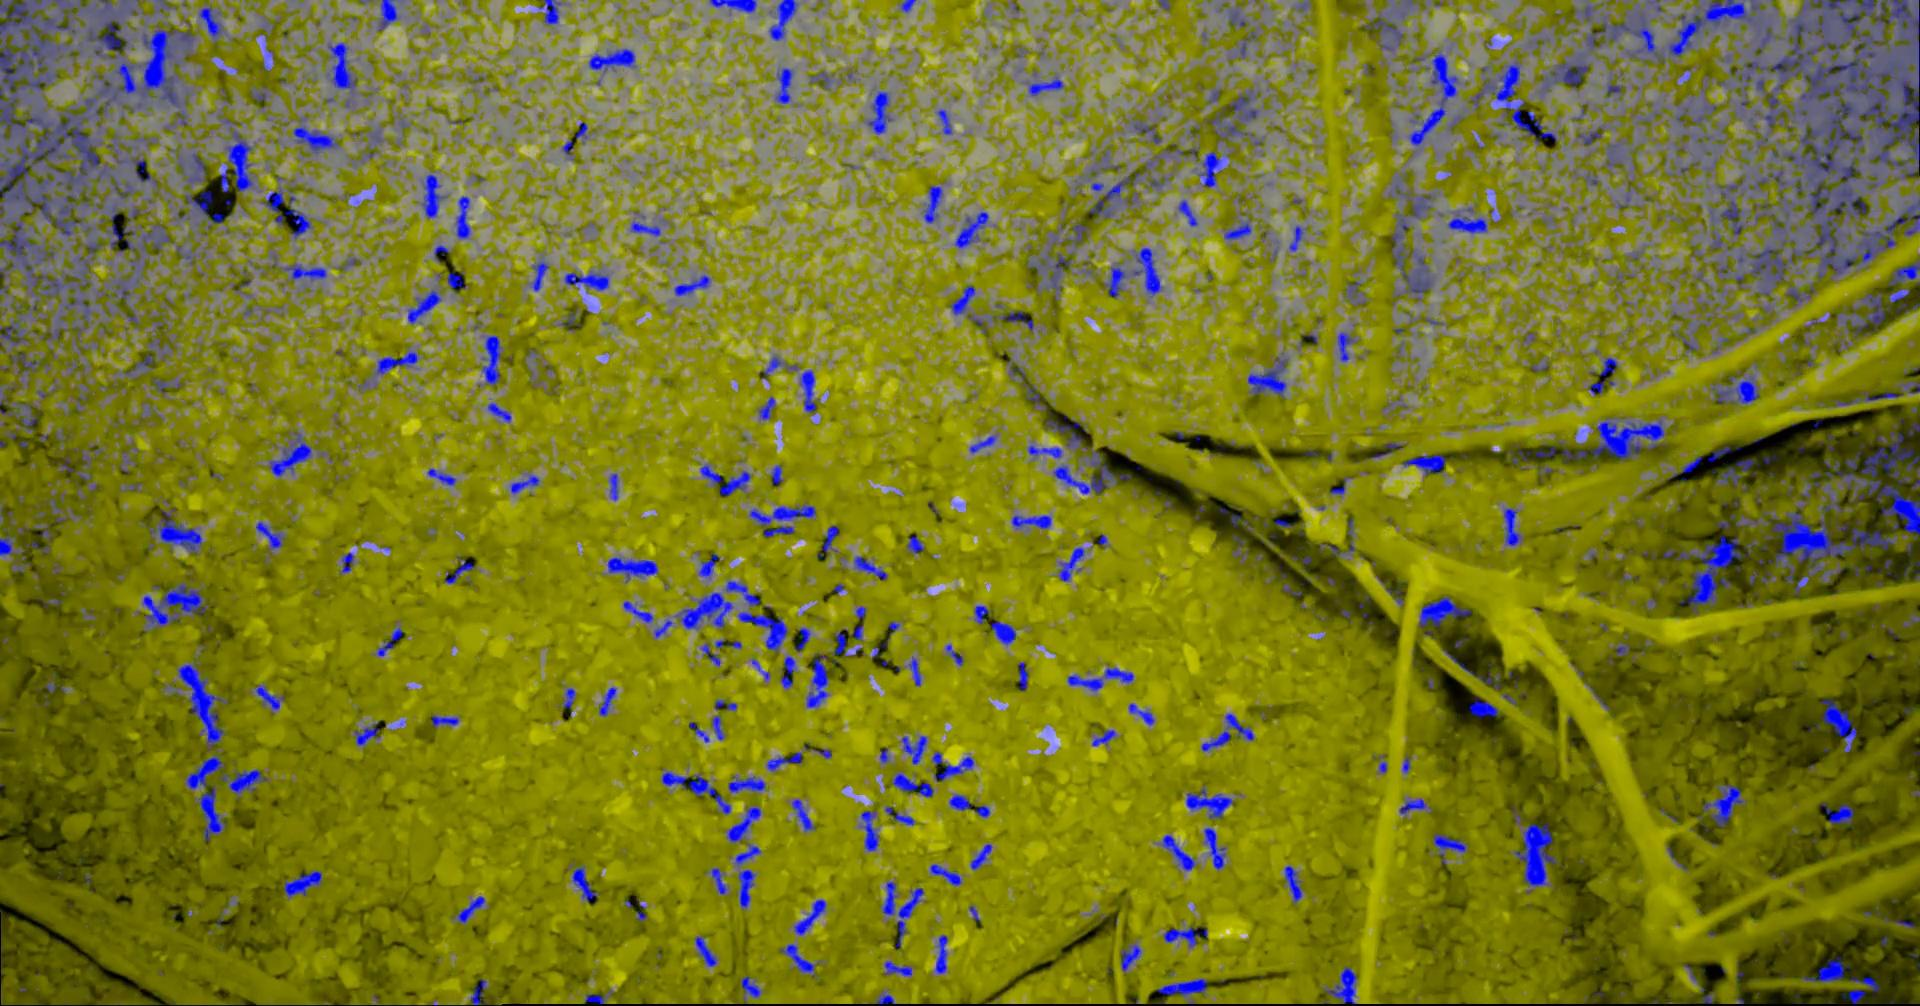ant: (1051, 445, 1130, 493), (1390, 212, 1432, 300), (1090, 163, 1150, 218), (662, 771, 730, 814), (881, 882, 923, 948), (1205, 89, 1258, 138), (262, 185, 311, 239), (147, 507, 201, 554), (1835, 292, 1890, 338), (220, 119, 253, 192), (1443, 649, 1501, 690), (748, 504, 815, 537), (1200, 713, 1255, 751), (737, 611, 787, 652), (674, 592, 731, 627), (1007, 359, 1046, 410), (268, 431, 311, 476), (1702, 782, 1746, 826), (1821, 699, 1857, 752), (1247, 352, 1288, 398), (0, 385, 41, 431), (1542, 55, 1589, 91), (184, 191, 231, 227), (1418, 594, 1470, 627), (112, 149, 157, 185), (1185, 784, 1233, 818), (698, 464, 750, 495), (292, 118, 339, 152), (1710, 370, 1759, 403), (1067, 667, 1134, 690), (1749, 168, 1785, 208), (1131, 246, 1161, 296), (218, 768, 268, 798), (778, 942, 819, 978), (105, 205, 135, 251), (328, 42, 356, 90), (0, 527, 29, 572), (931, 751, 973, 781), (1159, 835, 1195, 870), (954, 211, 988, 248), (1044, 413, 1081, 447), (607, 556, 657, 582), (1801, 956, 1850, 982), (1324, 967, 1357, 1005), (726, 805, 759, 842), (93, 166, 131, 198), (806, 652, 828, 708), (0, 305, 25, 352), (1709, 199, 1743, 234), (792, 899, 825, 935), (1360, 17, 1402, 44), (768, 0, 797, 39), (570, 862, 599, 902), (588, 48, 635, 72), (422, 173, 447, 217), (1829, 391, 1902, 406), (408, 290, 439, 324), (283, 870, 321, 898), (1163, 925, 1208, 948), (1049, 253, 1070, 300), (867, 91, 891, 133), (375, 351, 417, 375), (1754, 201, 1785, 232), (137, 222, 171, 251), (1432, 833, 1467, 862), (97, 276, 130, 305), (1401, 453, 1445, 475), (891, 774, 933, 796), (1203, 827, 1225, 869), (9, 351, 48, 375), (481, 335, 500, 385), (1156, 978, 1208, 996), (451, 895, 484, 923), (1058, 546, 1084, 580), (1888, 288, 1919, 318), (761, 354, 797, 379), (563, 271, 608, 290), (853, 555, 888, 580), (725, 580, 759, 606), (198, 8, 222, 43), (1197, 151, 1222, 187), (990, 310, 1032, 330), (443, 555, 474, 583), (858, 809, 879, 851), (1669, 456, 1702, 481), (255, 521, 284, 549), (1888, 259, 1919, 286), (830, 627, 855, 661), (930, 862, 963, 887), (1820, 801, 1854, 824), (375, 627, 403, 655), (949, 285, 974, 315), (254, 683, 284, 709), (791, 799, 815, 831), (1448, 213, 1487, 232), (900, 735, 927, 763), (1105, 262, 1126, 296), (923, 185, 942, 224), (674, 274, 710, 295), (63, 295, 90, 321), (766, 751, 803, 770), (738, 869, 756, 908), (622, 600, 653, 622), (695, 936, 717, 967), (284, 263, 326, 279), (799, 370, 815, 412), (1717, 174, 1743, 199), (1284, 865, 1302, 903), (1133, 119, 1161, 144), (1785, 283, 1815, 306), (123, 353, 154, 375), (1849, 976, 1879, 997), (1503, 508, 1521, 545), (728, 775, 764, 793), (1029, 76, 1063, 95), (884, 805, 916, 826), (455, 196, 470, 238), (775, 67, 792, 103), (377, 0, 397, 30), (354, 721, 380, 746), (1735, 509, 1769, 527), (1128, 702, 1154, 725), (990, 620, 1015, 644), (1468, 697, 1498, 716), (1011, 514, 1051, 528), (1120, 942, 1140, 970), (1411, 194, 1434, 218), (735, 843, 759, 866), (970, 843, 992, 869), (778, 655, 795, 688), (187, 152, 204, 183), (1177, 199, 1197, 226), (531, 260, 549, 291), (1399, 798, 1430, 815), (709, 0, 756, 11), (510, 474, 538, 493), (1369, 442, 1401, 459), (1065, 224, 1088, 246), (538, 0, 560, 24), (1337, 332, 1355, 361), (425, 467, 455, 485), (1691, 104, 1717, 124), (1716, 466, 1741, 486), (598, 686, 615, 716), (935, 934, 947, 973), (1223, 221, 1251, 239), (1229, 513, 1253, 533), (740, 976, 759, 1001), (37, 523, 53, 553), (969, 434, 996, 452), (709, 868, 726, 894), (630, 221, 660, 236), (446, 271, 466, 293), (151, 377, 182, 392), (488, 401, 510, 422), (1578, 126, 1603, 145), (1026, 251, 1050, 271), (1672, 332, 1697, 351), (1506, 445, 1530, 464), (698, 553, 717, 577), (1239, 30, 1256, 57), (822, 525, 838, 551), (470, 978, 486, 1005), (1027, 445, 1062, 457), (750, 657, 770, 680), (1707, 445, 1731, 462), (792, 627, 810, 652), (701, 641, 719, 666), (883, 960, 910, 976), (688, 721, 709, 742), (1330, 476, 1351, 495), (559, 307, 577, 330), (757, 396, 775, 419), (1091, 729, 1115, 746), (1841, 988, 1865, 1005), (1318, 542, 1346, 556), (561, 687, 575, 715), (1589, 379, 1614, 394), (1573, 4, 1595, 22), (945, 644, 963, 666), (1232, 535, 1248, 558), (1288, 225, 1302, 251), (908, 655, 921, 685), (937, 109, 952, 133), (809, 70, 829, 88), (85, 239, 103, 259), (1605, 144, 1622, 165), (949, 794, 970, 810), (1749, 570, 1774, 584), (430, 714, 458, 727), (803, 746, 830, 758), (1599, 357, 1617, 376), (1537, 465, 1556, 483), (905, 535, 924, 553), (973, 605, 990, 624), (1901, 608, 1919, 627), (653, 619, 672, 636), (1735, 459, 1759, 473), (711, 715, 724, 741), (41, 326, 63, 340), (1017, 662, 1029, 690), (433, 244, 450, 263), (1385, 588, 1403, 605), (770, 464, 782, 486), (1371, 754, 1387, 774), (339, 553, 353, 573), (1534, 445, 1556, 457), (1229, 9, 1244, 27), (44, 673, 58, 692), (714, 699, 737, 710), (583, 993, 606, 1005), (1898, 380, 1919, 392), (874, 992, 894, 1005), (1345, 281, 1360, 297), (1606, 83, 1624, 97), (610, 473, 618, 500), (1347, 520, 1355, 551), (1283, 583, 1302, 596), (250, 86, 265, 102), (561, 138, 573, 159), (850, 624, 863, 640), (1867, 171, 1879, 189), (1709, 232, 1722, 250), (973, 804, 990, 817), (39, 597, 61, 607), (156, 0, 175, 11), (57, 457, 72, 471), (574, 122, 587, 138), (1615, 641, 1629, 655), (1274, 518, 1295, 527), (1893, 920, 1915, 929), (74, 470, 91, 480), (900, 0, 916, 11), (879, 747, 889, 763), (1702, 992, 1713, 1005), (1402, 754, 1410, 772)
